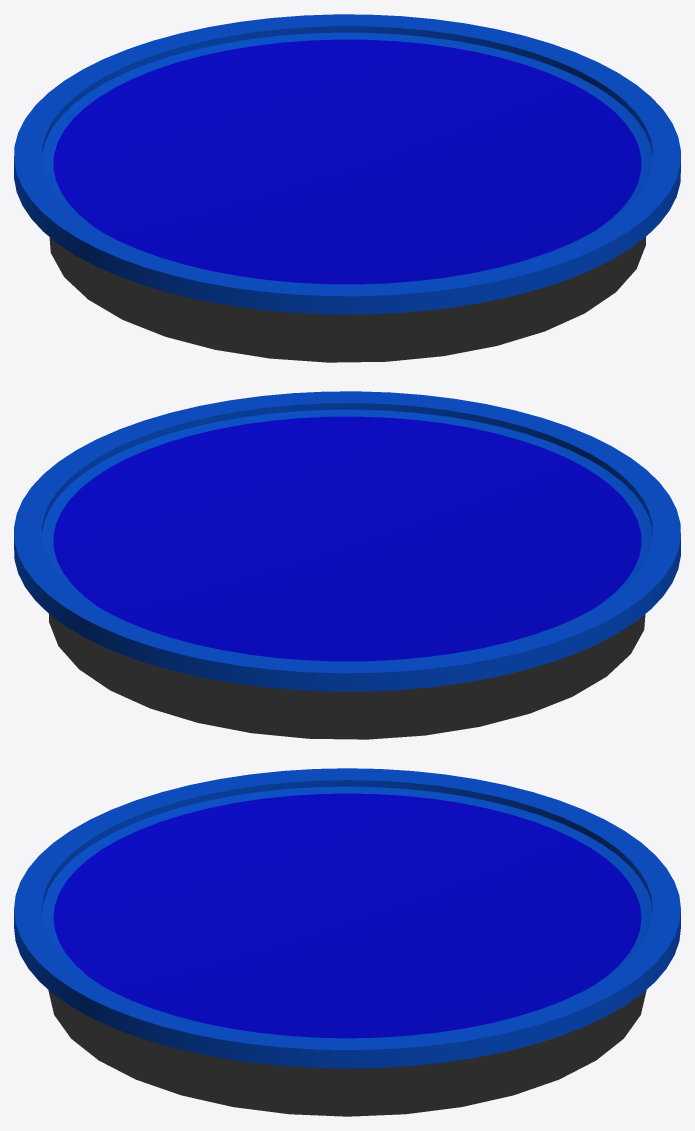
The model's file is Low-Poly-Gauge.fbx.
3 renders of one model, top to bottom at view 1: azimuth 30°, elevation 25°; view 2: azimuth 150°, elevation 25°; view 3: azimuth 270°, elevation 25°, orthographic.
Parts seen in each view (by area): view 1: 01-Gauge-BG.001; view 2: 01-Gauge-BG.001; view 3: 01-Gauge-BG.001.
Boxes of the visible parts, left/top/right/bottom form: 01-Gauge-BG.001: left=14, top=14, right=680, bottom=362; 01-Gauge-BG.001: left=14, top=391, right=680, bottom=739; 01-Gauge-BG.001: left=14, top=768, right=680, bottom=1116.
Size of the model in its own units: 223 by 29.9 by 223.
